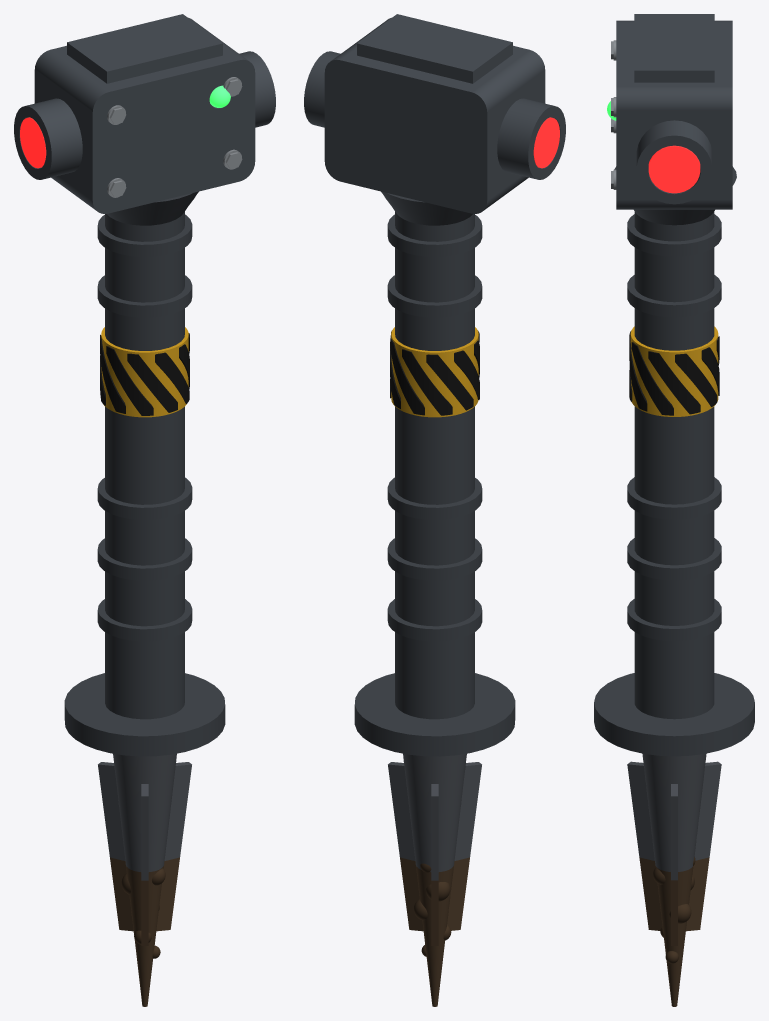
File: gad_stake.glb
3 renders of one model, left to right at view 1: azimuth 30°, elevation 25°; view 2: azimuth 150°, elevation 25°; view 3: azimuth 270°, elevation 25°, orthographic.
Parts seen in each view (by area): view 1: armoured_tube, sensor_head, spike, spike_muddy_tip, hazard_stripes, hazard_band, bolts, laser_lenses; view 2: armoured_tube, sensor_head, spike, spike_muddy_tip, hazard_stripes, hazard_band, laser_lenses, mud; view 3: armoured_tube, sensor_head, spike, spike_muddy_tip, hazard_stripes, hazard_band, laser_lenses, mud, bolts.
Part boxes in pixels (x1=…): armoured_tube: x1=64, y1=191, x2=225, y2=756; sensor_head: x1=14, y1=14, x2=275, y2=213; spike: x1=98, y1=753, x2=191, y2=880; spike_muddy_tip: x1=110, y1=857, x2=179, y2=1006; hazard_stripes: x1=100, y1=333, x2=189, y2=415; hazard_band: x1=101, y1=327, x2=188, y2=417; bolts: x1=107, y1=77, x2=242, y2=197; laser_lenses: x1=20, y1=117, x2=46, y2=168; armoured_tube: x1=354, y1=191, x2=515, y2=756; sensor_head: x1=304, y1=14, x2=565, y2=213; spike: x1=388, y1=753, x2=481, y2=880; spike_muddy_tip: x1=400, y1=857, x2=469, y2=1006; hazard_stripes: x1=390, y1=331, x2=479, y2=415; hazard_band: x1=391, y1=327, x2=478, y2=417; laser_lenses: x1=533, y1=117, x2=559, y2=168; mud: x1=413, y1=863, x2=451, y2=956; armoured_tube: x1=594, y1=166, x2=754, y2=756; sensor_head: x1=616, y1=14, x2=732, y2=209; spike: x1=627, y1=753, x2=721, y2=880; spike_muddy_tip: x1=639, y1=857, x2=709, y2=1006; hazard_stripes: x1=629, y1=331, x2=719, y2=415; hazard_band: x1=630, y1=326, x2=718, y2=416; laser_lenses: x1=648, y1=145, x2=700, y2=193; mud: x1=653, y1=857, x2=695, y2=963; bolts: x1=611, y1=40, x2=616, y2=189.
Bounding box in the file's own units: 0.058 × 0.238 × 0.036.
